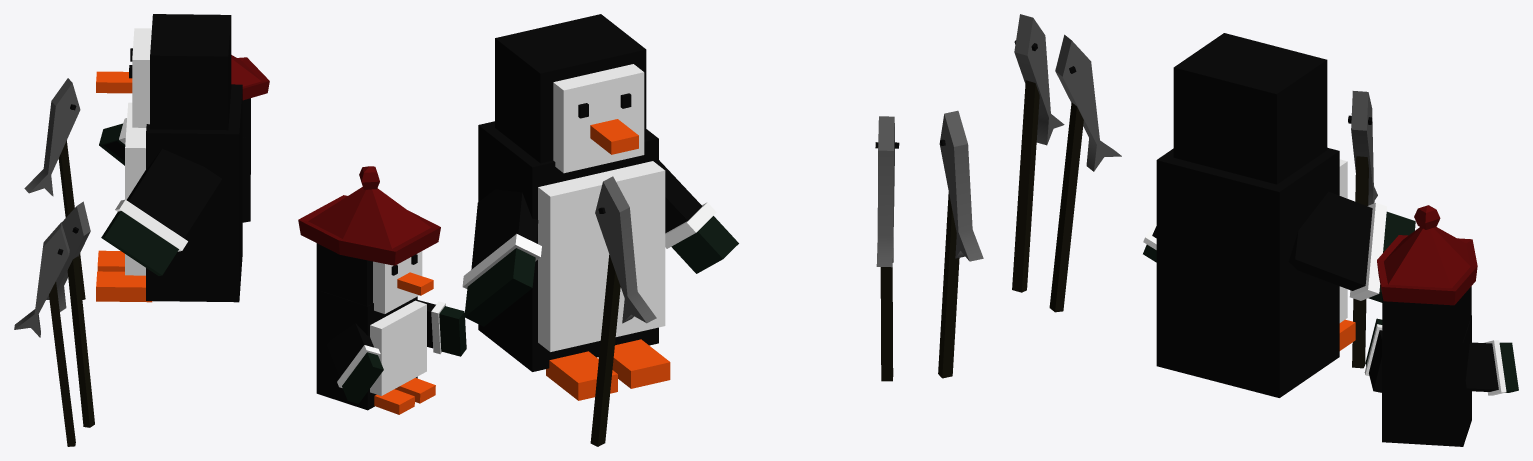
File: Vader-zoon-fish-stok.obj
3 renders of one model, left to right at view 1: azimuth 30°, elevation 25°; view 2: azimuth 150°, elevation 25°; view 3: azimuth 270°, elevation 25°, orthographic. The views are drawn at different scales.
Parts seen in each view (by area): view 1: polySurface417, pCube140, pCube141, pCube138, polySurface511; view 2: polySurface417, polySurface511, pCube138, pCube141, pCube140; view 3: polySurface417, polySurface511, pCube140, pCube141, pCube138.
Part boxes in pixels (x1,y1,x2,y2): polySurface417: (96, 14, 242, 302); pCube140: (46, 201, 94, 427); pCube141: (14, 222, 75, 446); pCube138: (24, 78, 85, 299); polySurface511: (231, 55, 269, 222); polySurface417: (462, 14, 738, 400); polySurface511: (298, 166, 466, 414); pCube138: (590, 176, 656, 446); pCube141: (938, 110, 983, 378); pCube140: (875, 116, 899, 381); polySurface417: (1143, 33, 1415, 397); polySurface511: (1364, 205, 1518, 446); pCube140: (1049, 34, 1121, 312); pCube141: (1012, 14, 1064, 292); pCube138: (1348, 91, 1377, 368).
Size of the model in its own units: 1.96 by 1.36 by 1.76.
